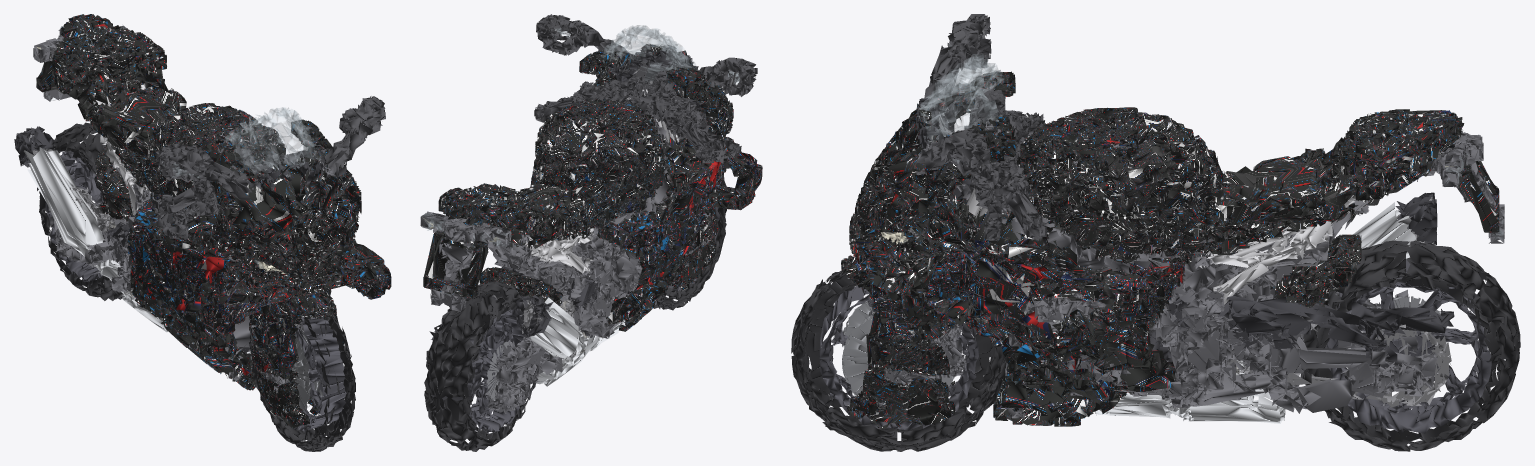
The model's file is moto-bmw.glb.
3 renders of one model, left to right at view 1: azimuth 30°, elevation 25°; view 2: azimuth 150°, elevation 25°; view 3: azimuth 270°, elevation 25°, orthographic. The views are drawn at different scales.
Visible parts, largest first — view 1: moto-bmw.glb; view 2: moto-bmw.glb; view 3: moto-bmw.glb.
Part boxes in pixels (x1,y1,x2,y2): moto-bmw.glb: (14,14,391,451); moto-bmw.glb: (420,14,762,451); moto-bmw.glb: (791,14,1520,451).
Bounding box in the file's own units: 0.9225 × 1.23 × 2.08.
51 materials, 5 textured.
